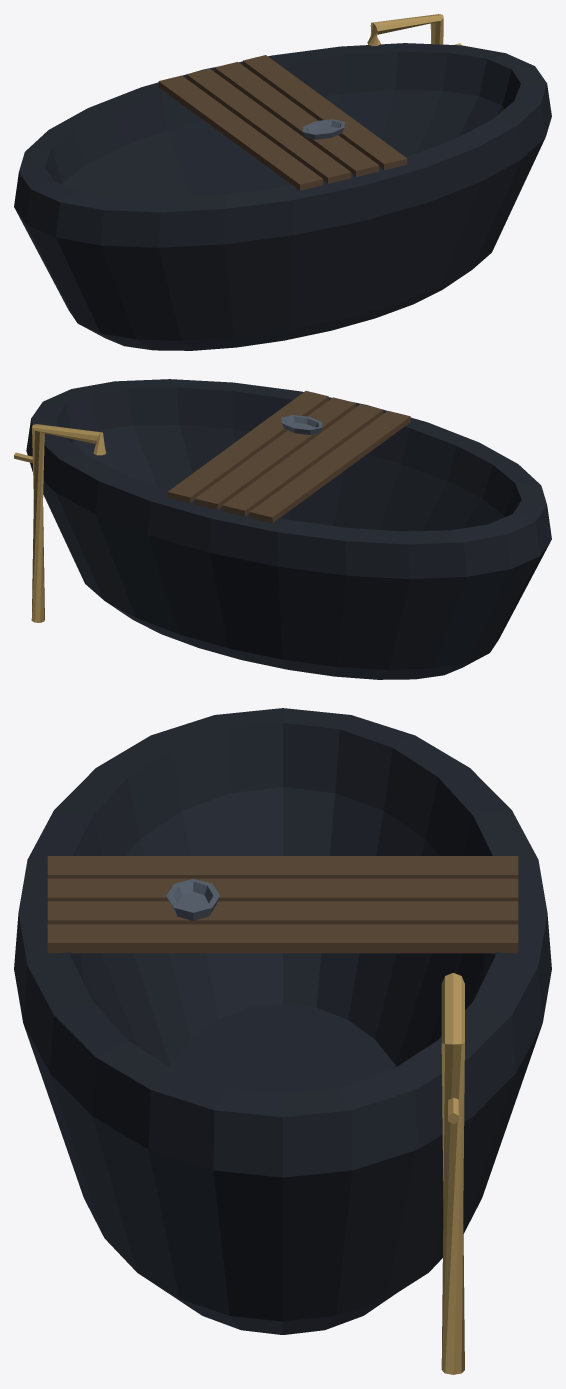
Rendered from res_freestanding_tub.glb.
The picture shows the model from 3 angles, top to bottom: view 1: azimuth 30°, elevation 25°; view 2: azimuth 150°, elevation 25°; view 3: azimuth 270°, elevation 25°; orthographic projection. The views are drawn at different scales.
Visible parts, largest first — view 1: sculpted_stone_bath, bath_bridge_slat, freestanding_faucet, soap_dish; view 2: sculpted_stone_bath, bath_bridge_slat, freestanding_faucet, soap_dish; view 3: sculpted_stone_bath, bath_bridge_slat, freestanding_faucet, soap_dish.
Part boxes in pixels (x1,y1,x2,y2): sculpted_stone_bath: (14,43,551,350); bath_bridge_slat: (158,55,407,190); freestanding_faucet: (367,14,461,46); soap_dish: (303,119,344,139); sculpted_stone_bath: (26,379,551,679); bath_bridge_slat: (167,391,410,523); freestanding_faucet: (14,424,106,622); soap_dish: (281,415,322,434); sculpted_stone_bath: (14,708,551,1334); bath_bridge_slat: (47,856,518,953); freestanding_faucet: (441,973,464,1374); soap_dish: (166,878,219,920).
Bounding box in the file's own units: 2.2 × 0.85 × 1.2.
